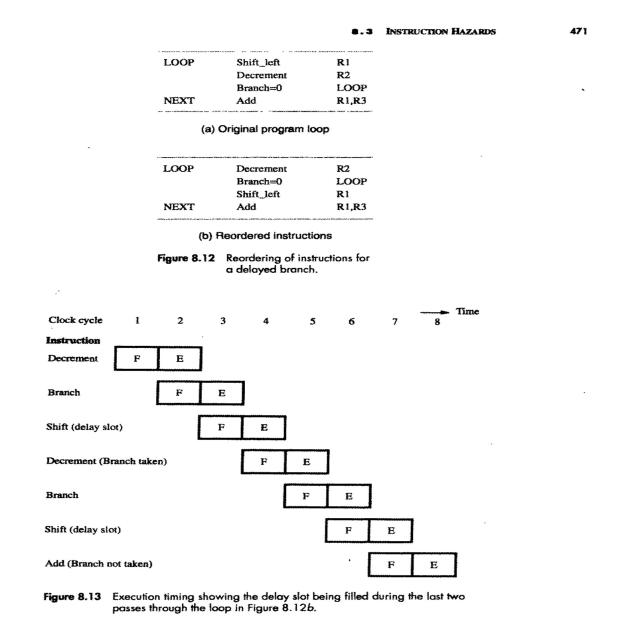diagram: (8, 304, 640, 630), (80, 39, 515, 291)
